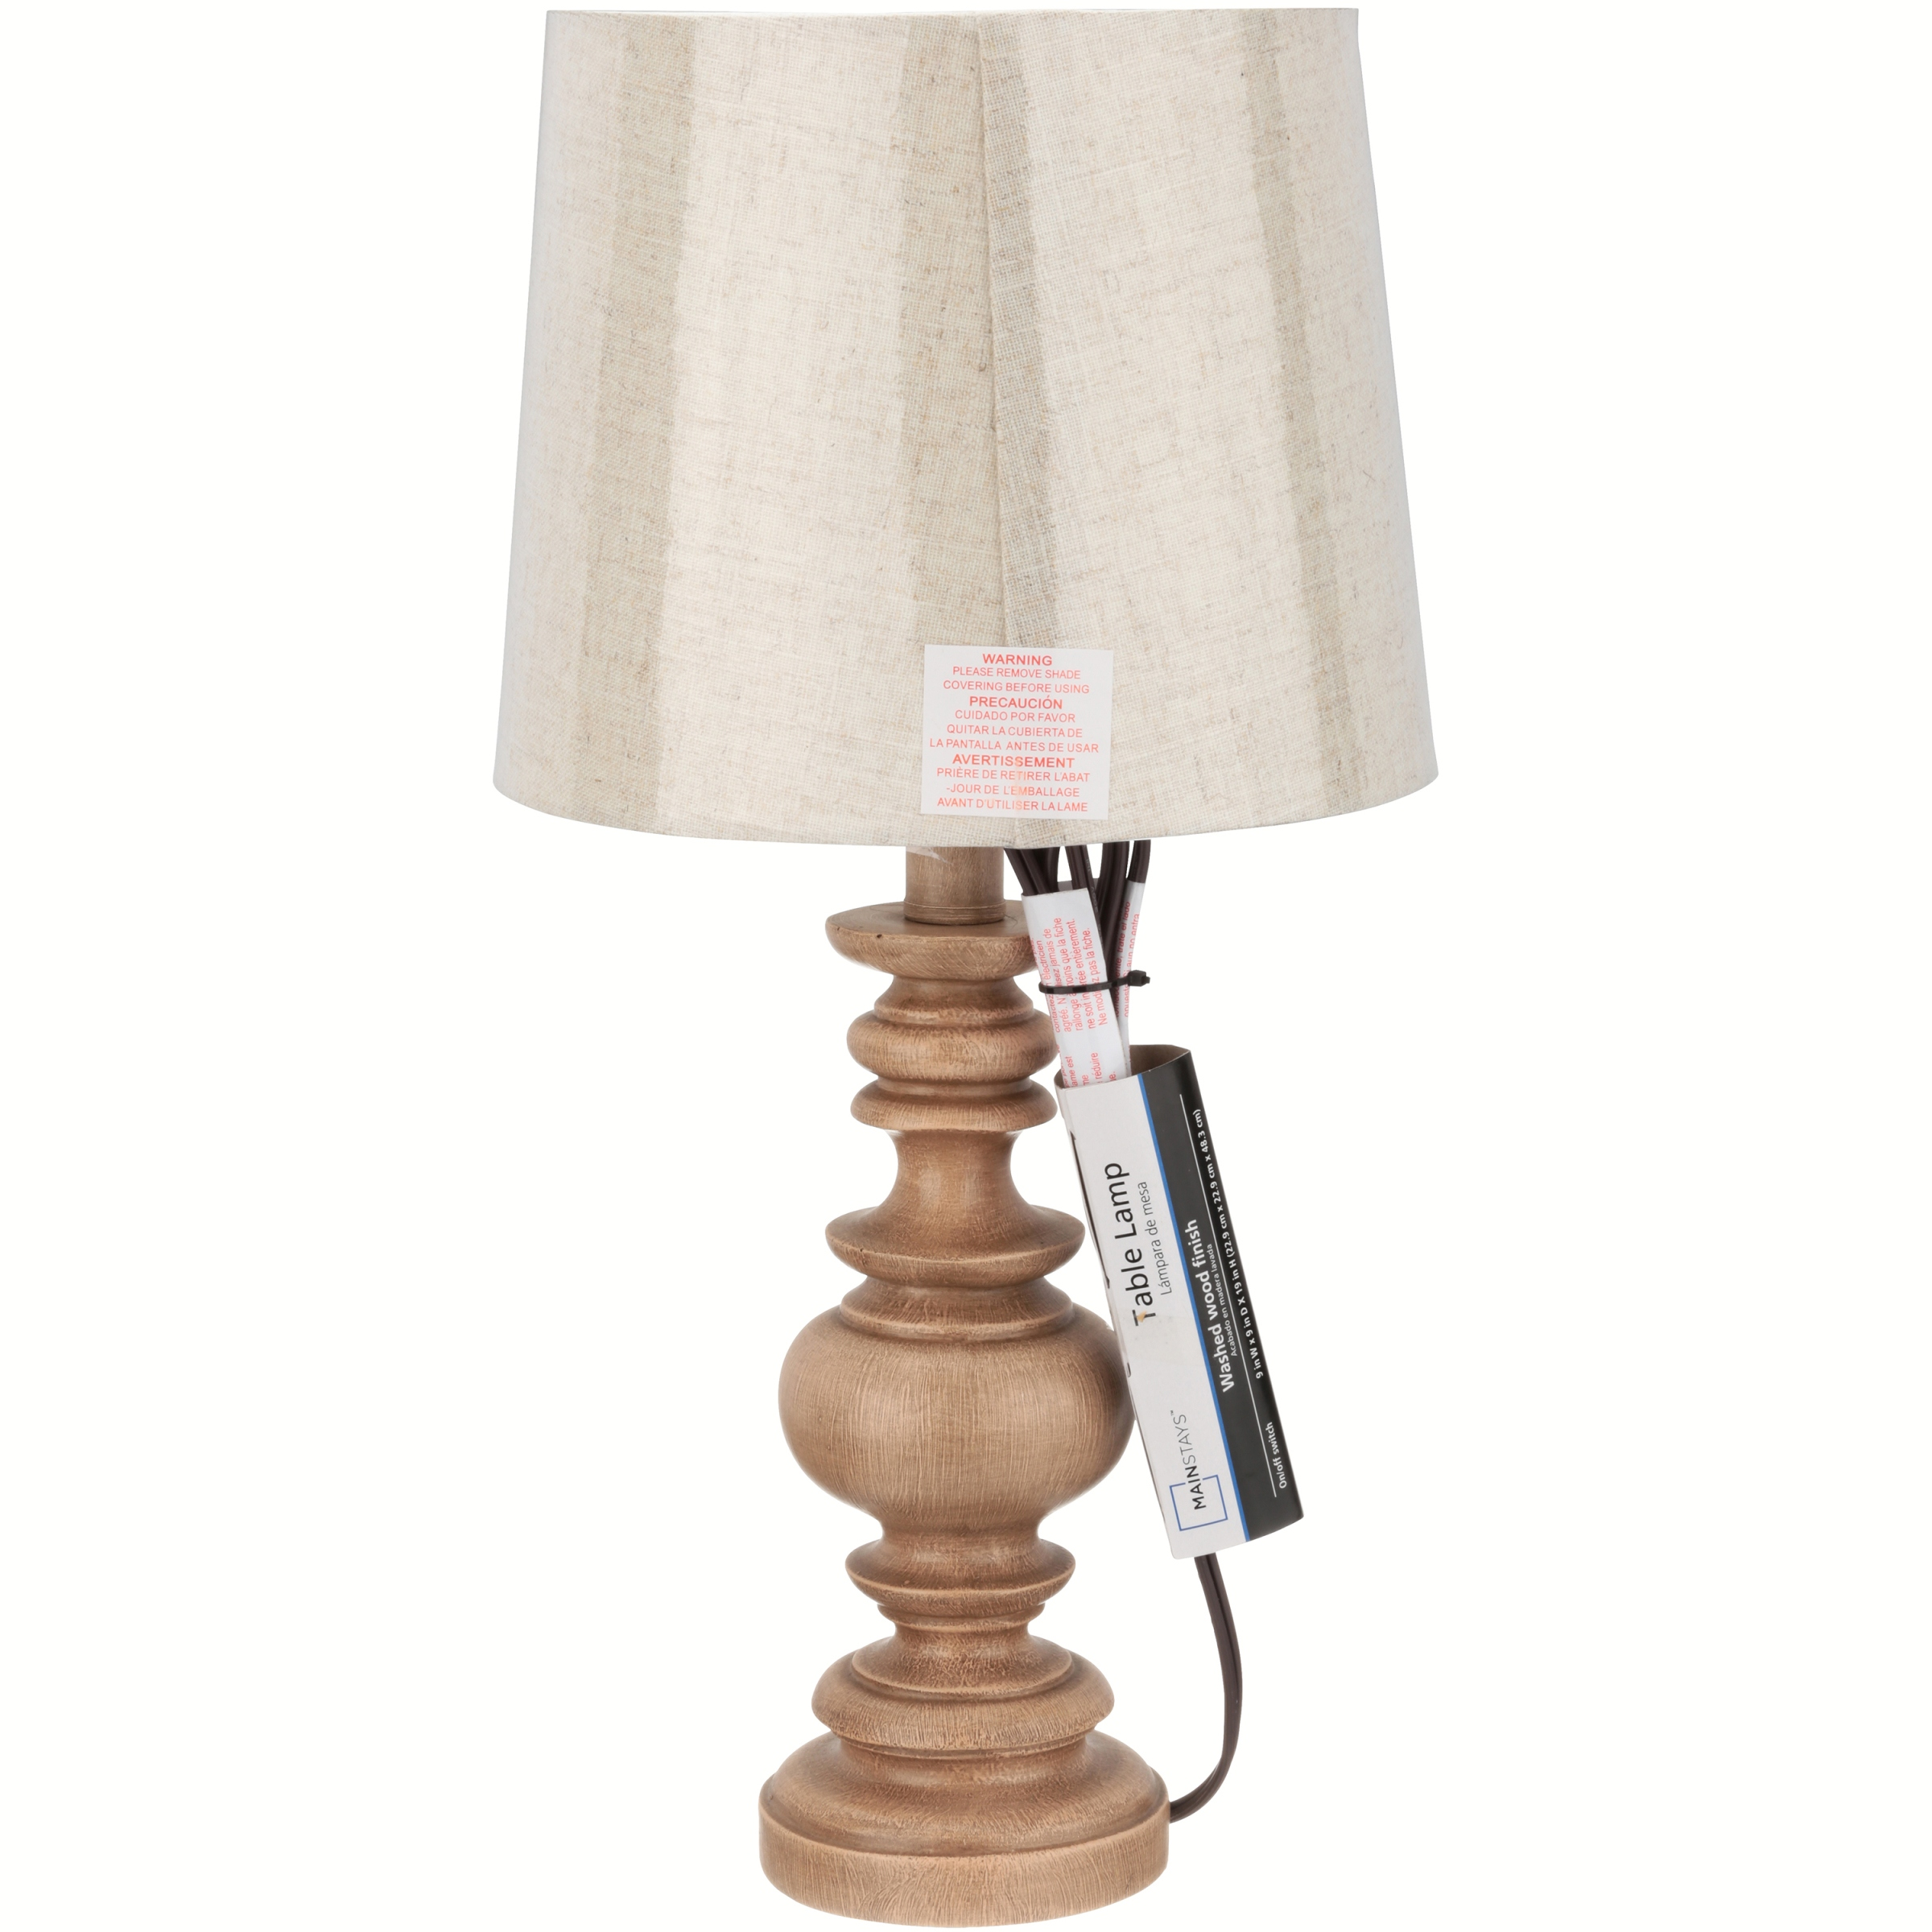lampu: (471, 2, 1438, 1932)
